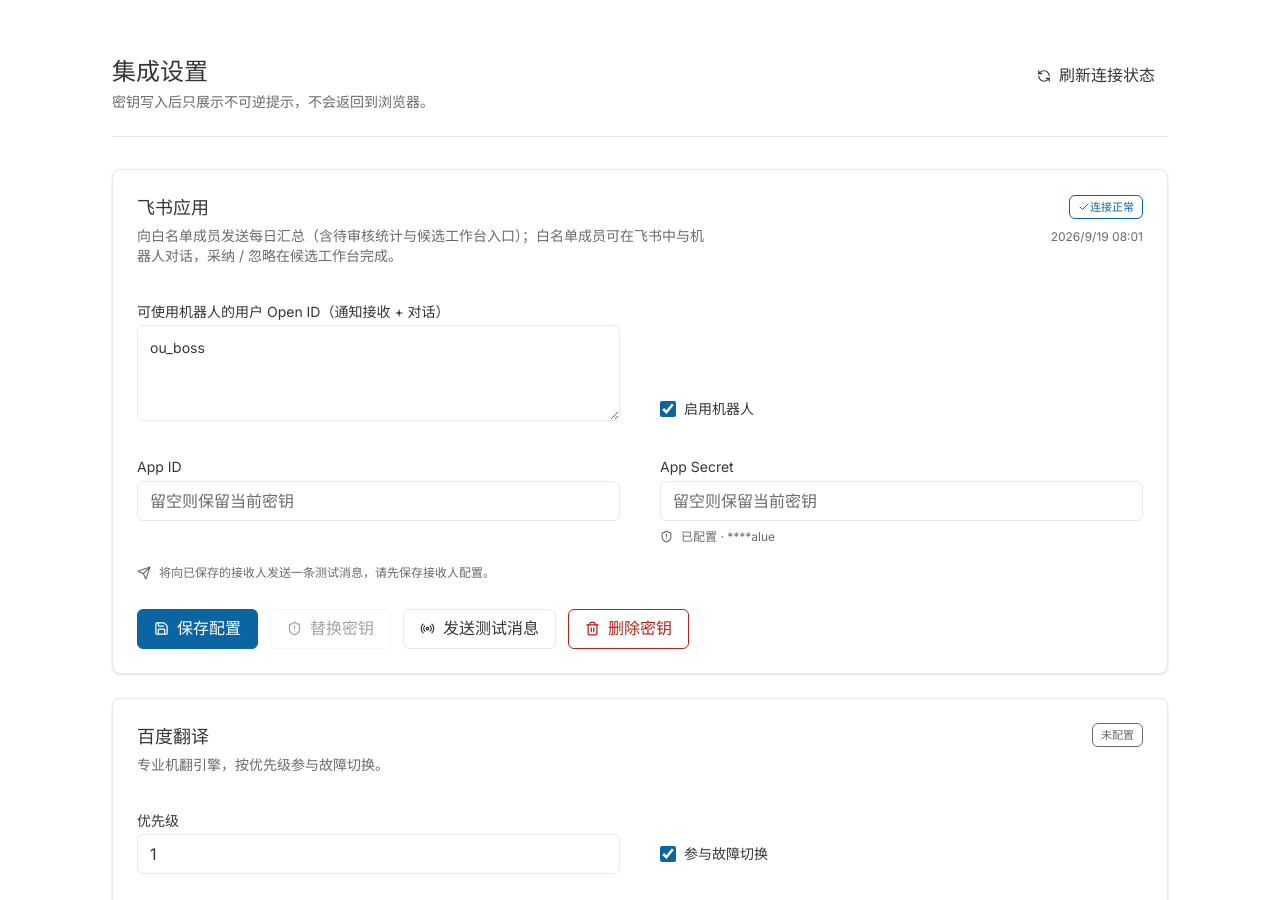
Test: Feishu application integration › reports missing permissions without claiming a test message was sent
Click the button with aria-label "发送飞书测试消息" at (480, 629), box [403, 609, 556, 649]
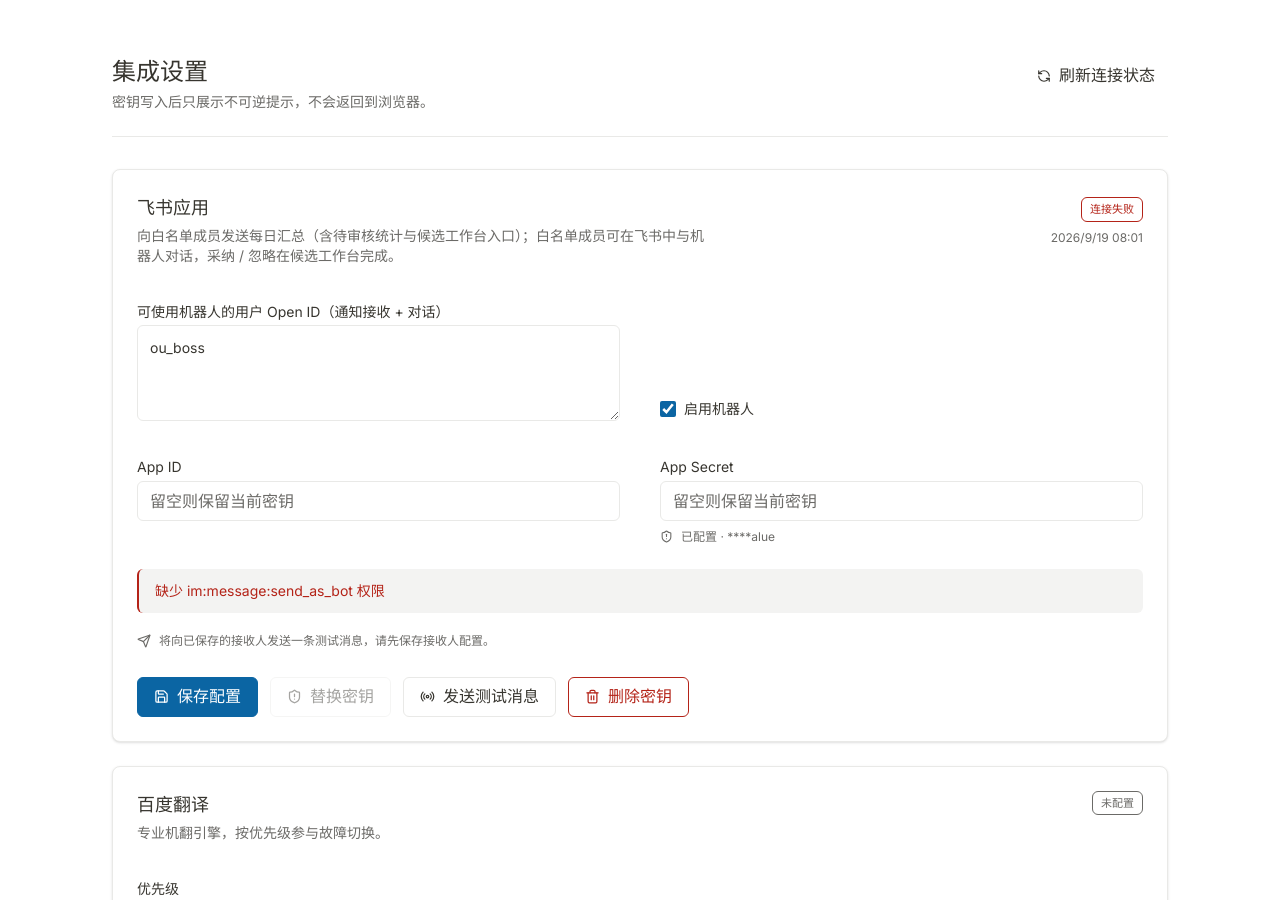
Check: the button with aria-label "发送飞书测试消息" is enabled, box [403, 677, 556, 717]
Check: the message reads "缺少 im:message:send_as_bot 权限", box [155, 582, 385, 599]
